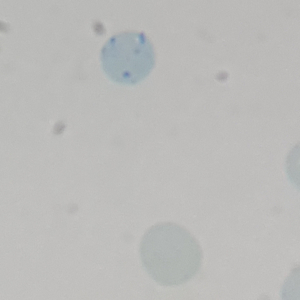aggregate reticulocyte: (98, 29, 157, 87)
erythrocyte: (137, 220, 203, 289)
